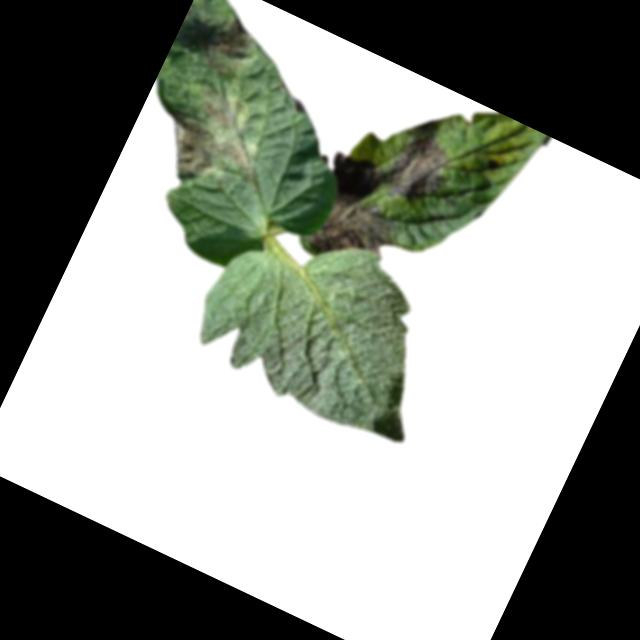Late_blight: (322, 101, 463, 229), (151, 113, 256, 203), (308, 185, 399, 274), (204, 8, 266, 75), (188, 83, 254, 143)
